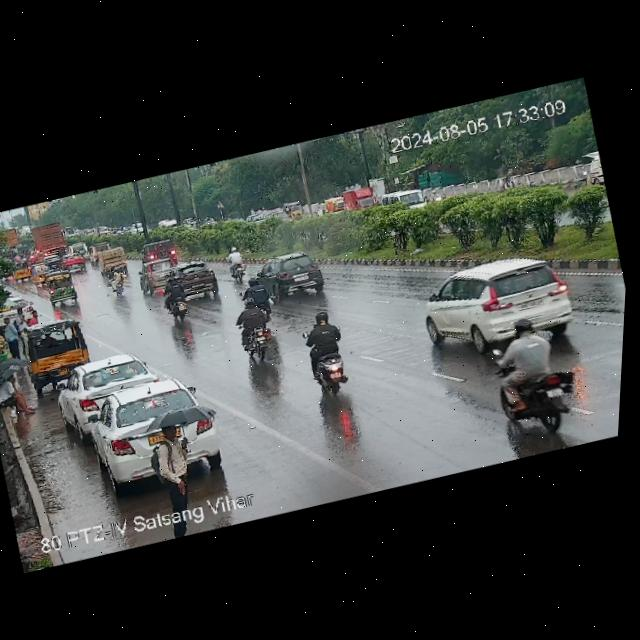car: (407, 240, 580, 360), (76, 371, 223, 495), (56, 349, 163, 433), (16, 315, 95, 390), (254, 246, 326, 305), (173, 252, 223, 297), (135, 256, 177, 295), (138, 235, 181, 269), (43, 267, 80, 305), (7, 256, 34, 284), (61, 250, 87, 272), (282, 199, 307, 221), (29, 262, 52, 283), (325, 195, 347, 215), (65, 242, 87, 260), (41, 252, 62, 270), (89, 239, 112, 254), (26, 247, 45, 263)
motorcycle: (478, 305, 597, 436), (290, 305, 360, 397), (226, 290, 281, 366), (157, 271, 190, 321), (221, 243, 255, 284), (243, 273, 274, 316), (98, 263, 132, 301), (427, 185, 444, 203), (500, 173, 517, 189)
person: (151, 417, 205, 513), (0, 368, 43, 425), (0, 313, 24, 358), (10, 305, 27, 328), (24, 307, 41, 325)
truck: (29, 221, 66, 256), (94, 246, 128, 275), (343, 185, 377, 214)
